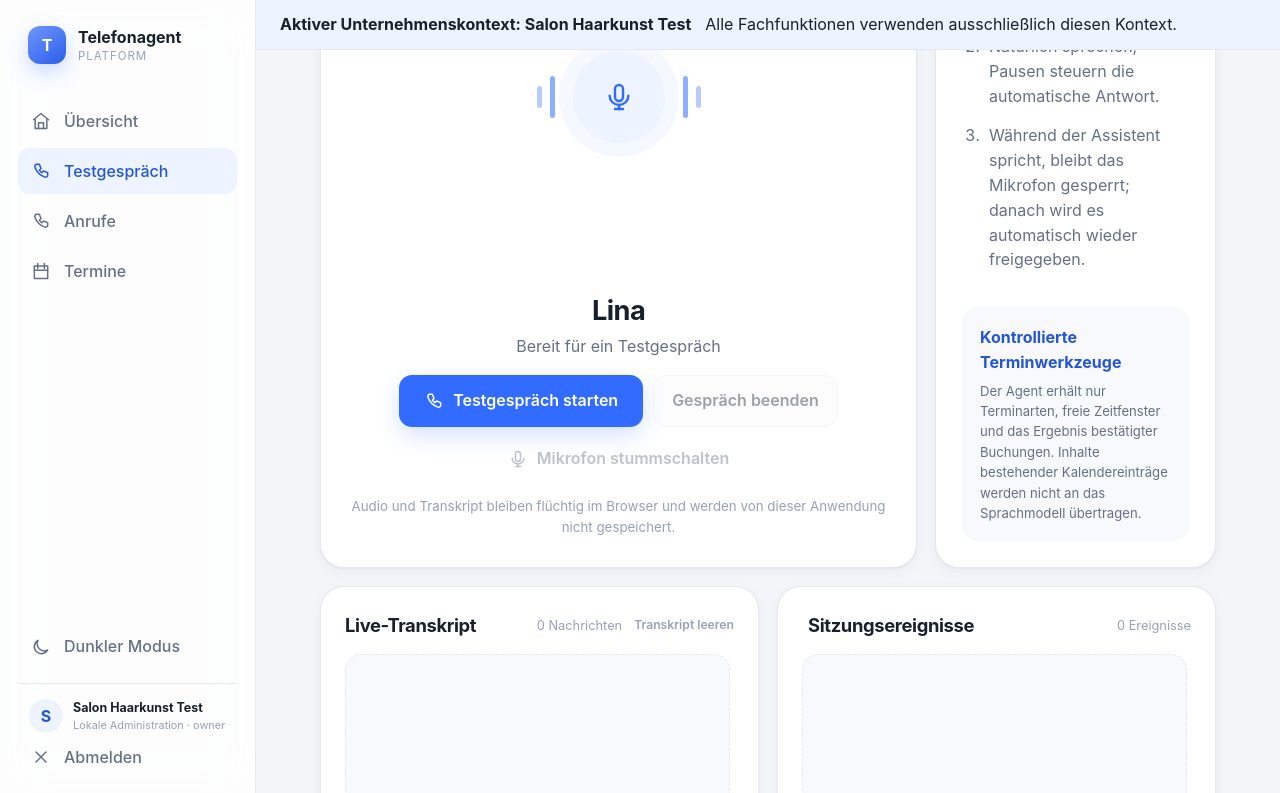
Test: Realtime browser voice flow › meldet WebRTC-Verbindungsfehler ohne technische Rohdetails
(page scrolled)
Click the button "Testgespräch starten" at (521, 401), box [399,375,643,427]
(page scrolled)
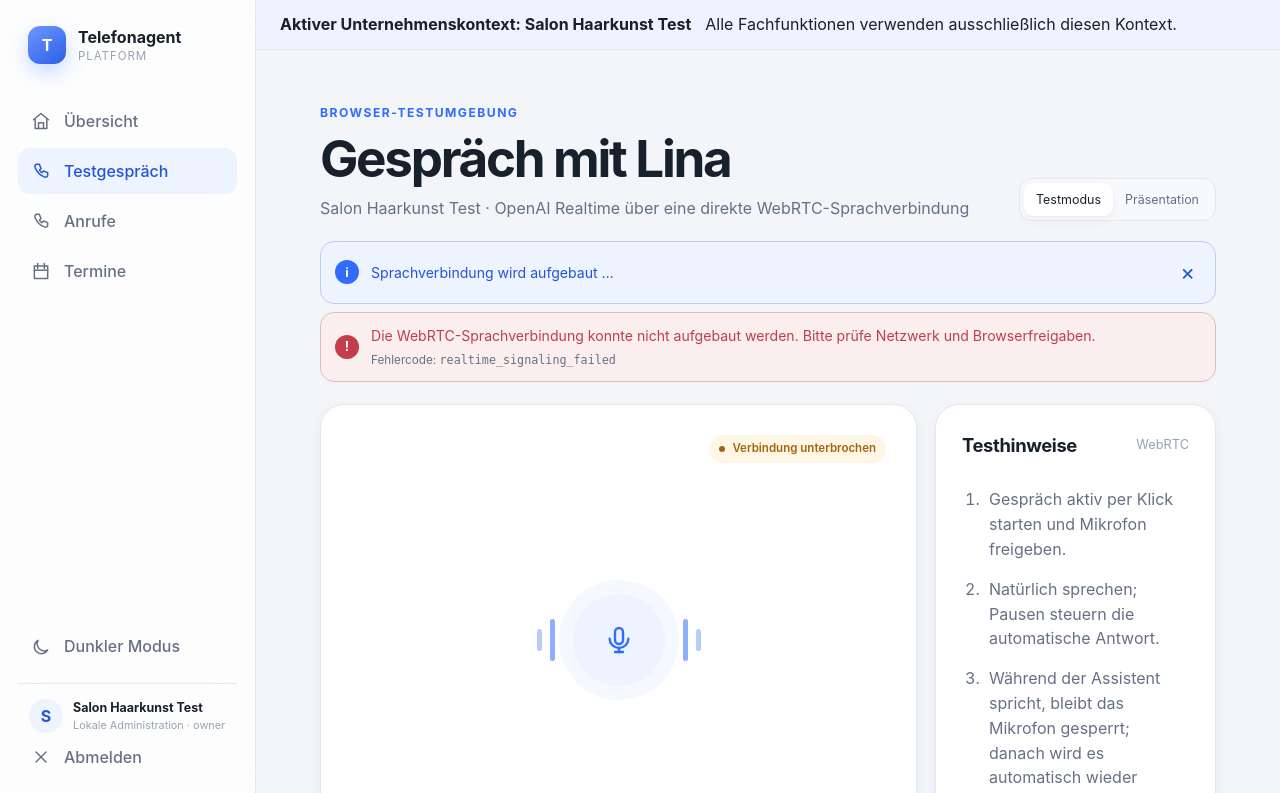
Expected: the 2nd message does not show "secret endpoint", [320,312,1216,382]
Expected: the 2nd message shows "WebRTC-Sprachverbindung konnte nicht aufgebaut werden", [371,327,1096,344]
